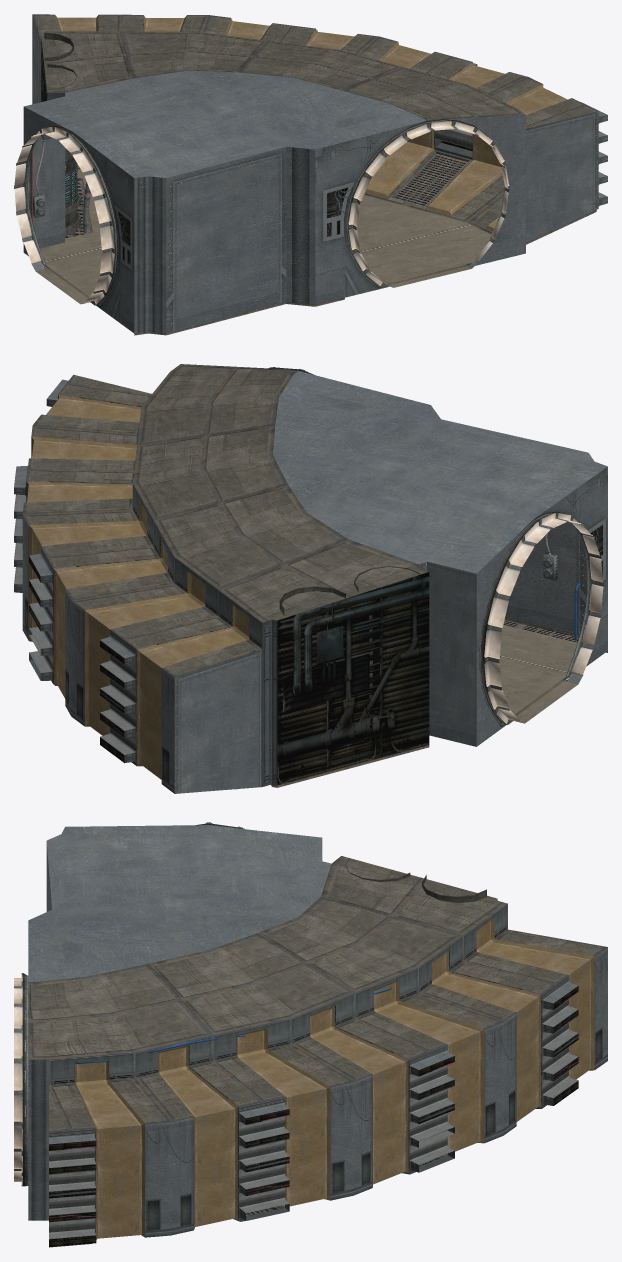
Rendered from yt1300_r6_storage6_mesh_r6.fbx.
3 views of the same model, one above another, from view 1: azimuth 30°, elevation 25°; view 2: azimuth 150°, elevation 25°; view 3: azimuth 270°, elevation 25° (orthographic). The views are drawn at different scales.
Visible parts, largest first — view 1: mesh_node; view 2: mesh_node; view 3: mesh_node.
Boxes of the visible parts, x1,y1,x2,y2 form: mesh_node: (14,14,607,335); mesh_node: (14,364,607,793); mesh_node: (14,822,607,1247).
Bounding box in the file's own units: 12.34 × 3.89 × 11.35.
